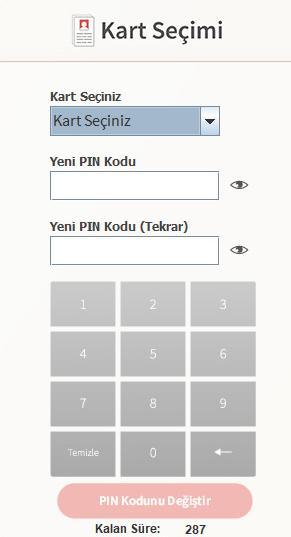button: (58, 484, 253, 520)
dropdown: (51, 106, 220, 138)
icon: (230, 179, 251, 193), (231, 243, 251, 257)
input: (51, 170, 220, 201), (50, 238, 219, 266)
label: (50, 217, 192, 237), (50, 153, 140, 171), (48, 89, 123, 103)
